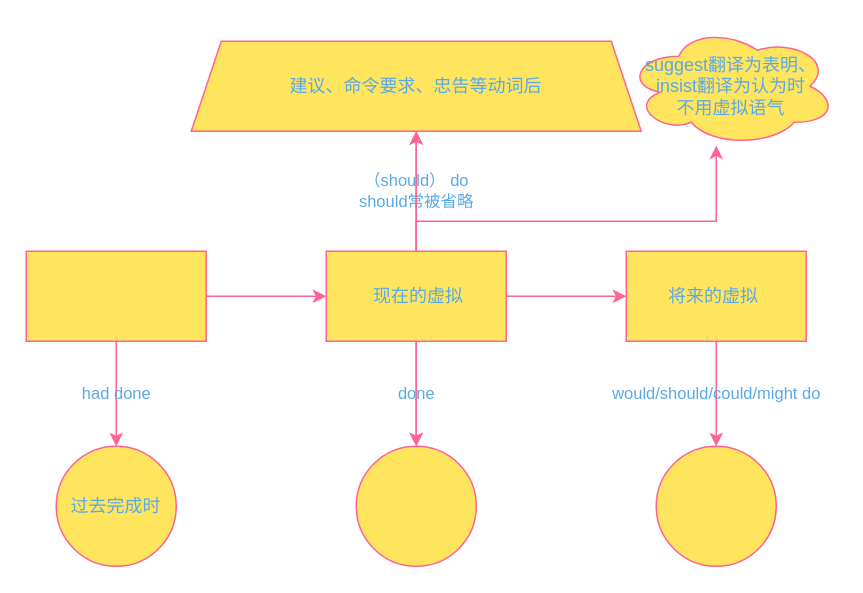
Image size: 863x593. Some labels were removed from this diagram. The shapes that lost their labels are listed below. From the top down, each one's centre as x and y in pixels, then its label:
the point at 115,295: 过去的虚拟
the point at 415,505: 过去时
the point at 715,505: 过去将来时
